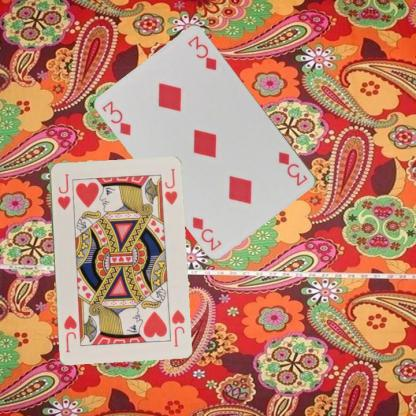3d: (276, 148, 309, 188), (100, 98, 133, 137)
Jh: (169, 307, 186, 348), (54, 171, 71, 210)
